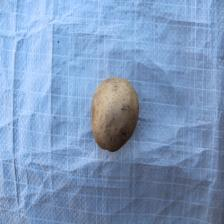Diseased-fungal potato: (90, 76, 140, 154)
